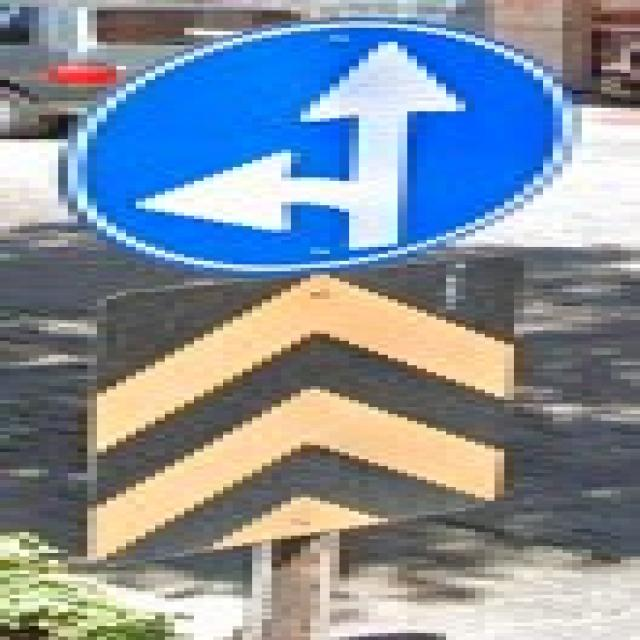Straight or Left: (50, 19, 573, 273)
